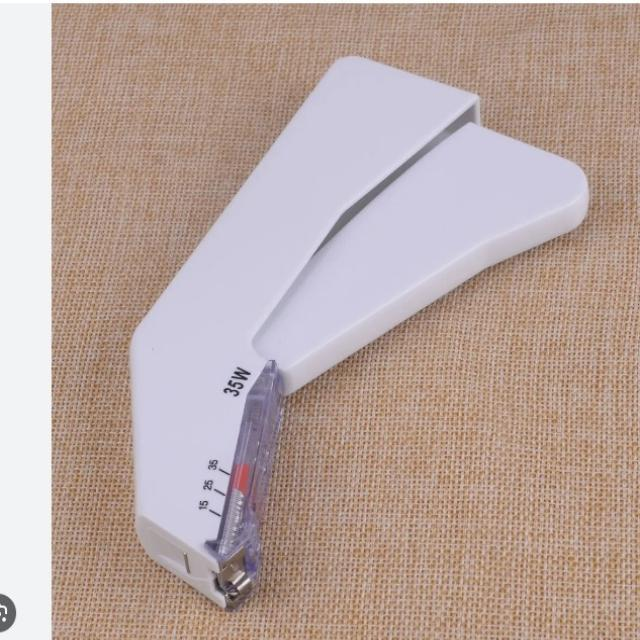Skin Stapler: (119, 50, 596, 617)
